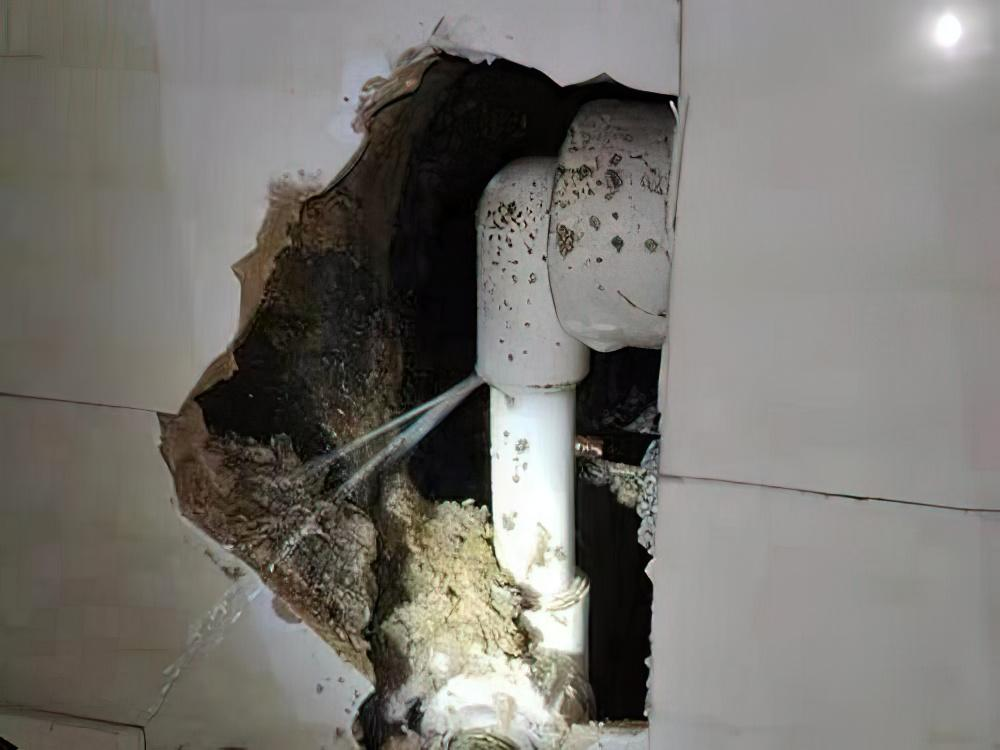pipe burst: (146, 359, 496, 717)
